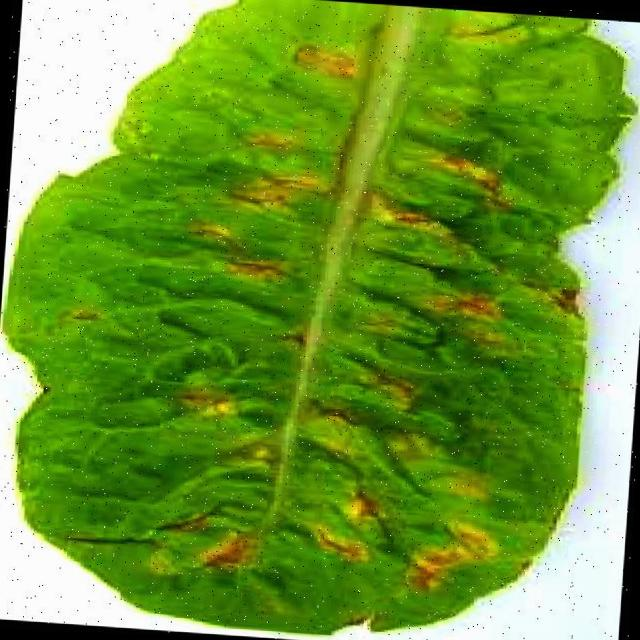Downy_mildew_on_lettuce: (156, 324, 482, 611)
